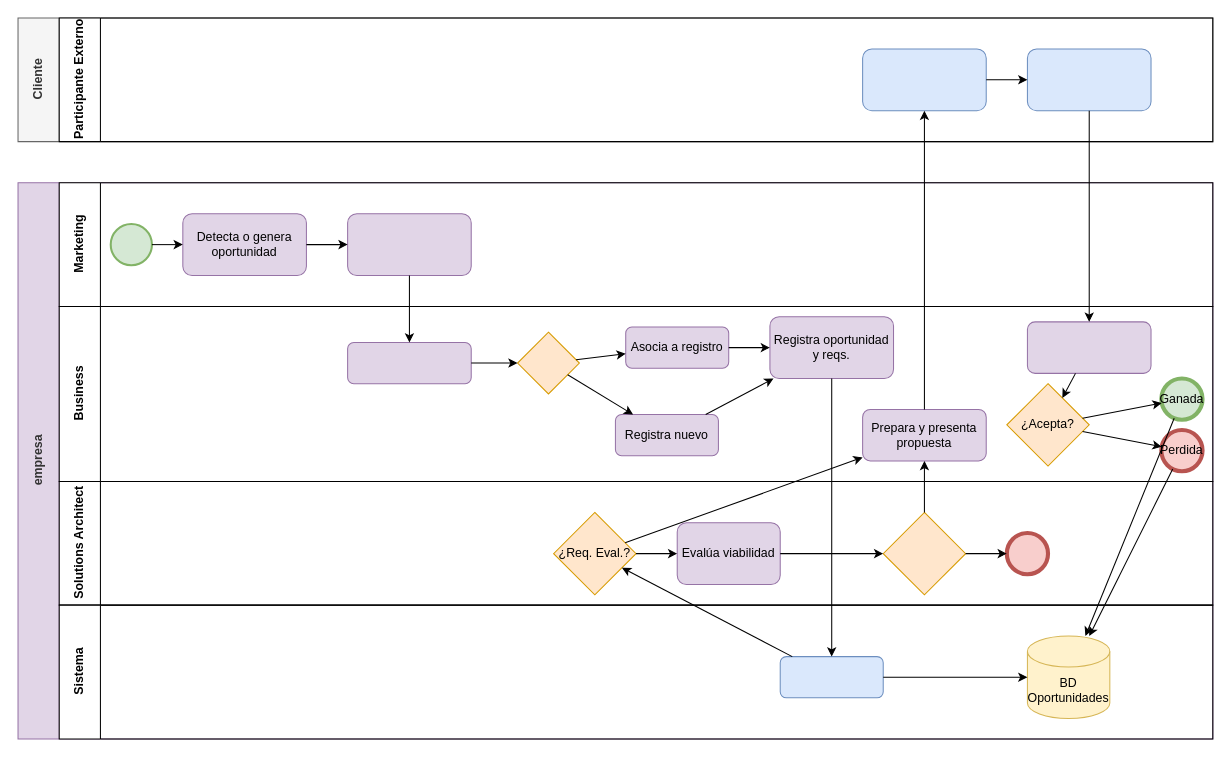
This 1231x757 diagram has some shape labels left out. Each missing label, with the centre of its shape:
Busca prospecto: [409,362]
Deriva oportunidad a Business: [409,244]
Evalúa propuesta: [1088,79]
Perdida (Téc): [1027,553]
Recibe propuesta comercial: [924,79]
Registra respuesta: [1088,347]
Valida datos: [831,677]
¿Existe?: [548,362]
¿Viable?: [924,553]
